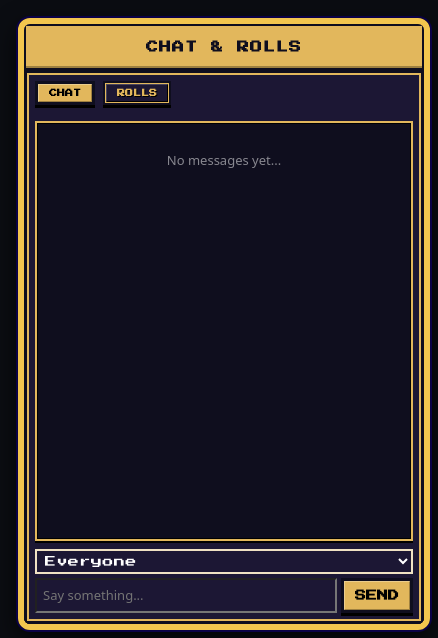
Test: RollLog tab strip › hides the roll CLEAR button while chat is showing
Click the tab "ROLLS" at point(137, 93), box [103,81,171,105]
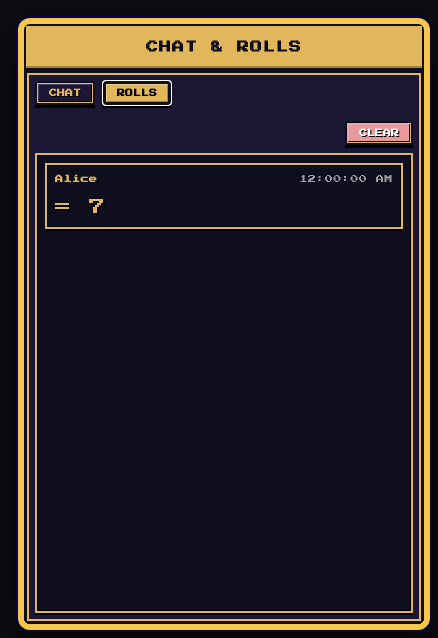
Expected: the button "CLEAR" is shown, [345,121,413,145]
Click the tab "CHAT" at point(65, 93), box [35,81,95,105]
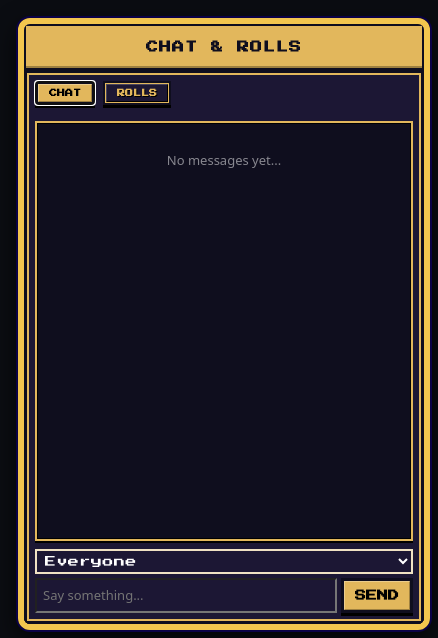
Expected: the button "CLEAR" is gone
